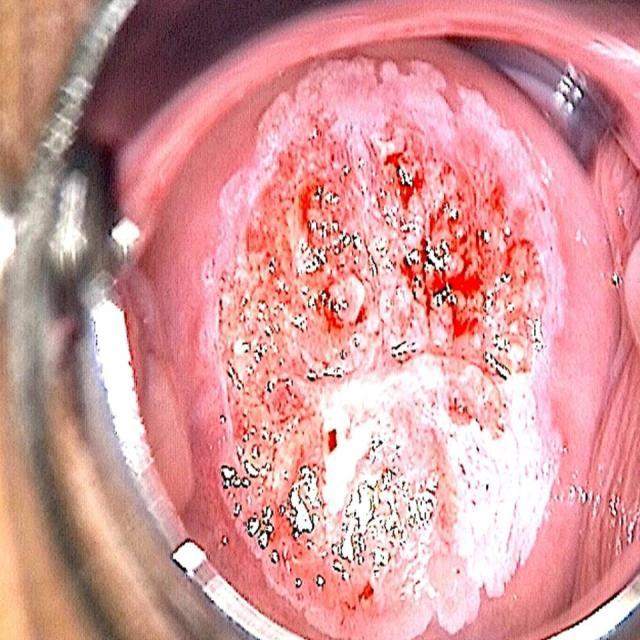cervical_lesion: (201, 62, 568, 638)
